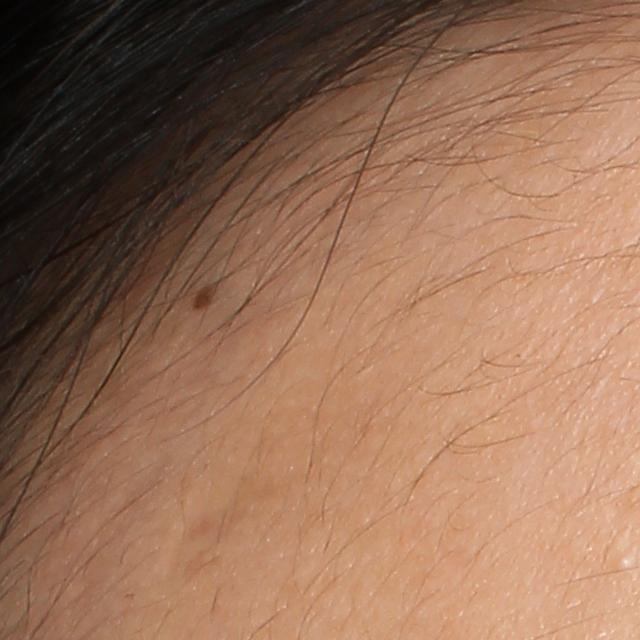comedo: (607, 548, 637, 573)
nevus: (191, 277, 223, 312)
